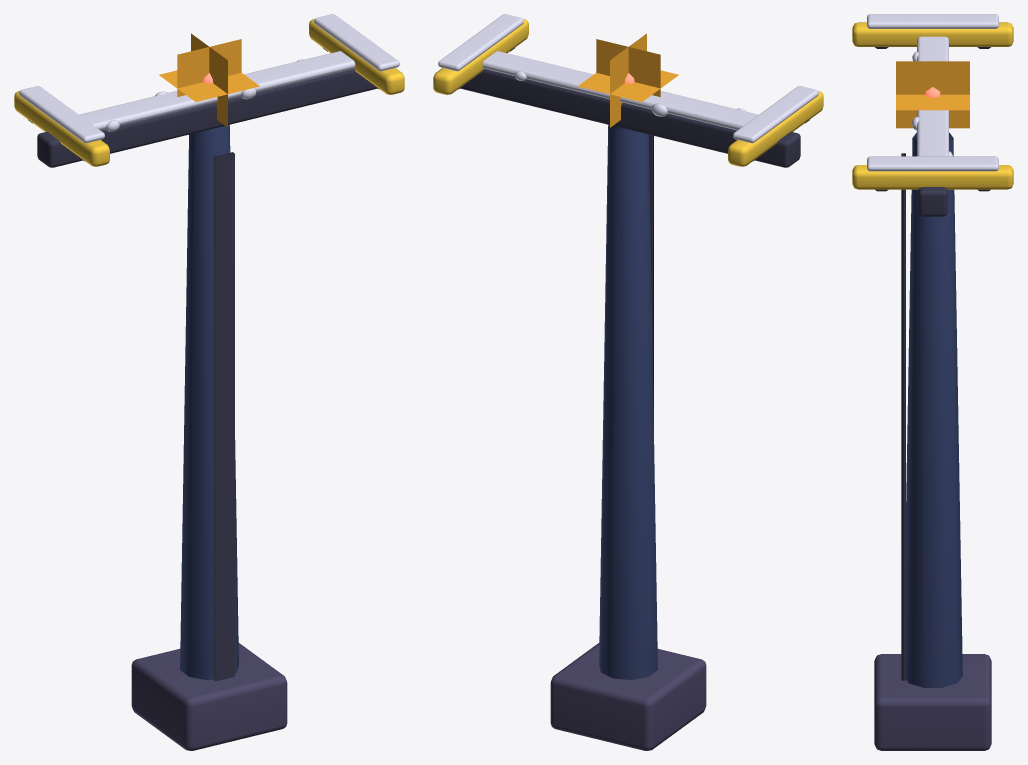
Rendered from frost_lift_tower.glb.
The picture shows the model from 3 angles, left to right: view 1: azimuth 30°, elevation 25°; view 2: azimuth 150°, elevation 25°; view 3: azimuth 270°, elevation 25°; orthographic projection.
Visible parts, largest first — view 1: LTTower; view 2: LTTower; view 3: LTTower.
Part boxes in pixels (box(x1,y1,x2,y2)): LTTower: box(14, 14, 404, 750); LTTower: box(433, 14, 823, 750); LTTower: box(852, 14, 1013, 750).
Size of the model in its own units: 5.2 by 10.05 by 2.2.
